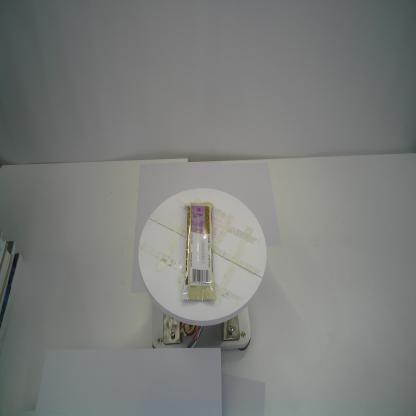Chocolate: (180, 200, 216, 301)
